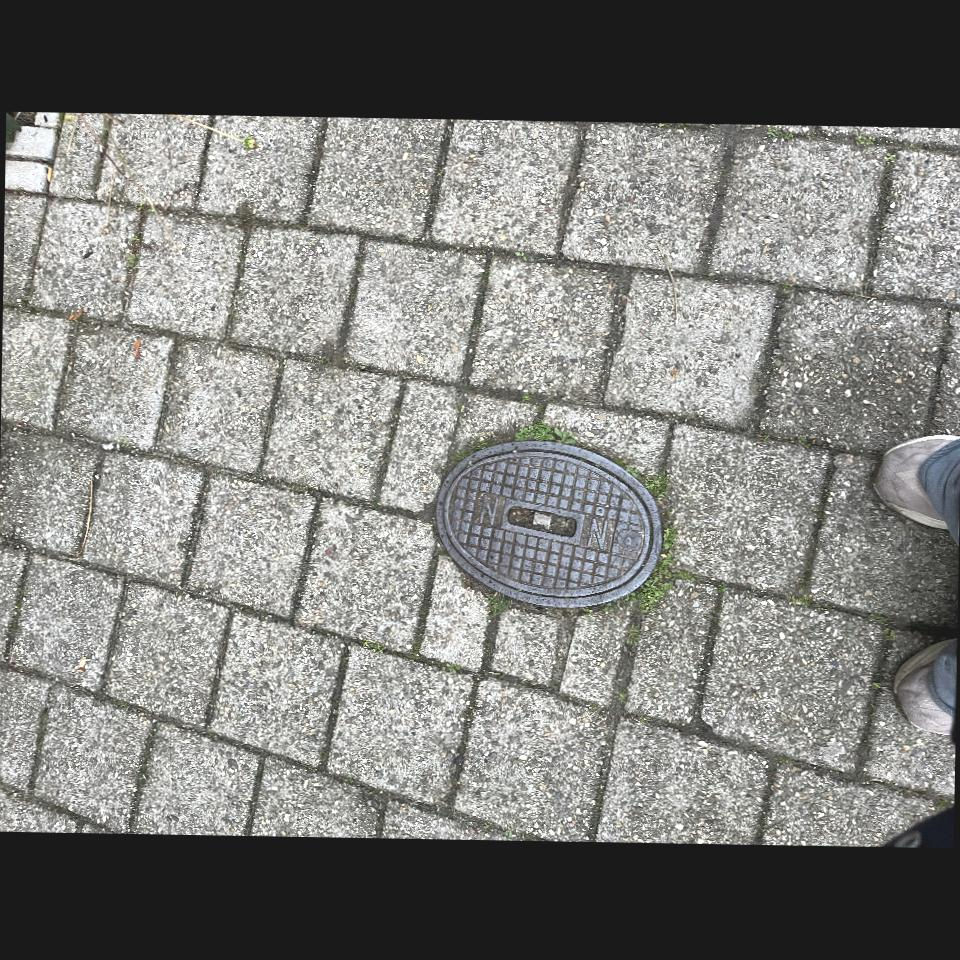weed: (621, 528, 676, 613), (625, 466, 672, 514), (443, 438, 498, 473), (488, 592, 558, 618), (515, 423, 578, 444), (627, 633, 637, 643)
